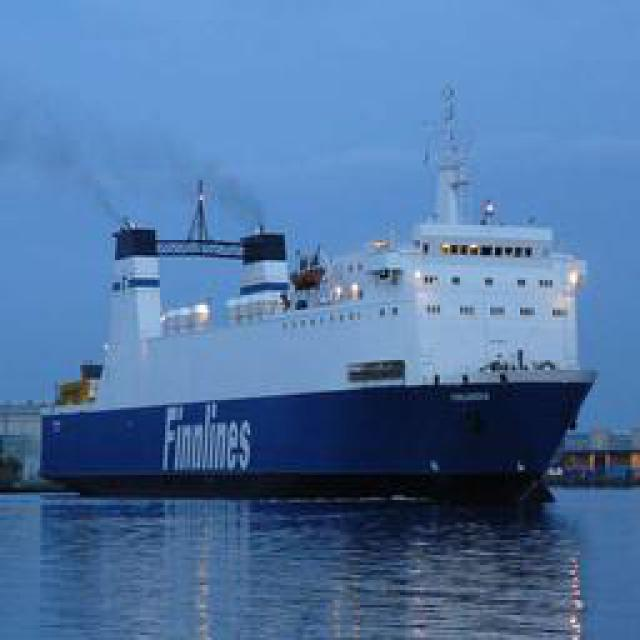Ship: (41, 84, 606, 469)
